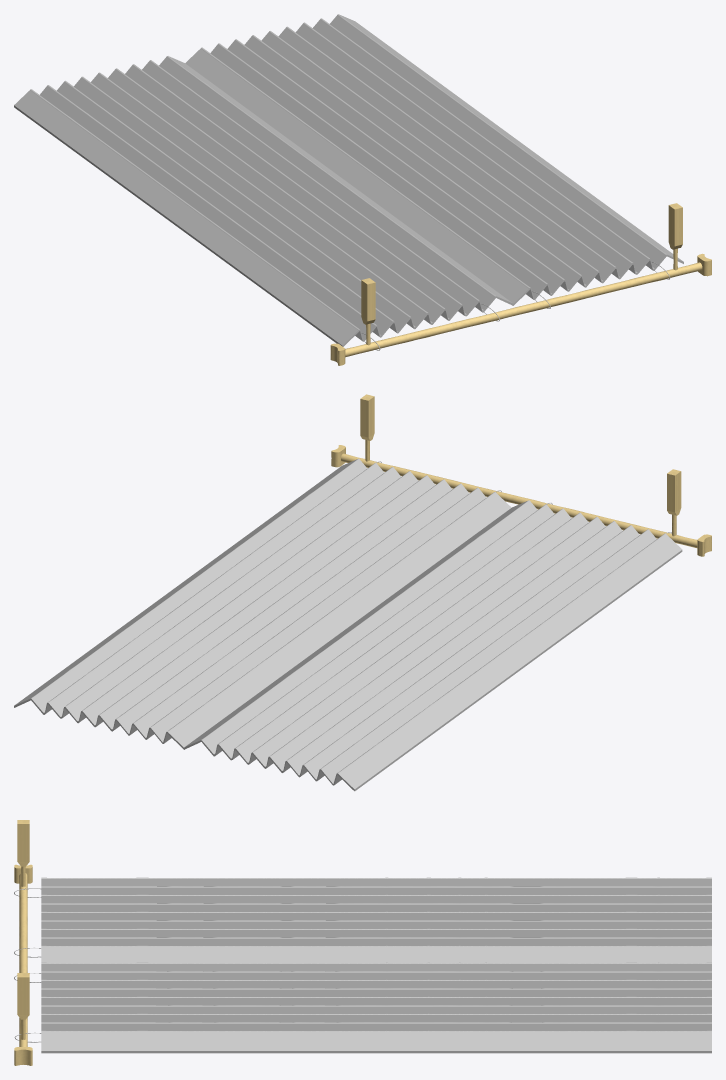
Rendered from curtain_right.obj.
3 views of the same model, one above another, from view 1: azimuth 30°, elevation 25°; view 2: azimuth 150°, elevation 25°; view 3: azimuth 270°, elevation 25° (orthographic). The views are drawn at different scales.
Parts seen in each view (by area): view 1: curtain_right; view 2: curtain_right; view 3: curtain_right.
Part boxes in pixels (x1,y1,x2,y2): curtain_right: [14, 14, 711, 365]; curtain_right: [14, 394, 711, 791]; curtain_right: [14, 820, 711, 1065].
Size of the model in its own units: 1.31 by 0.2461 by 2.08.
